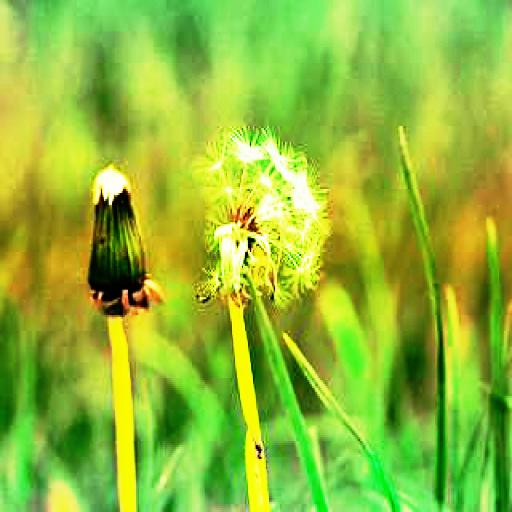dandelion: (197, 132, 331, 303)
